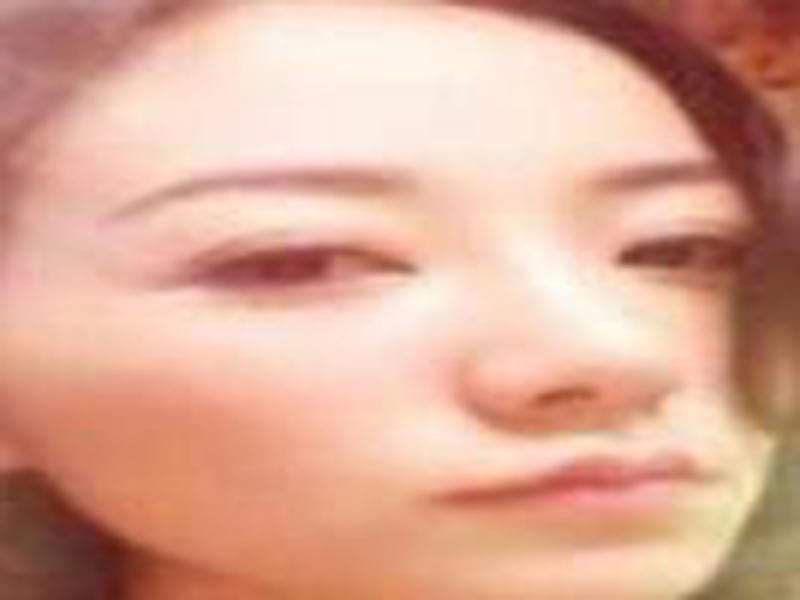without_mask: (21, 25, 772, 600)
